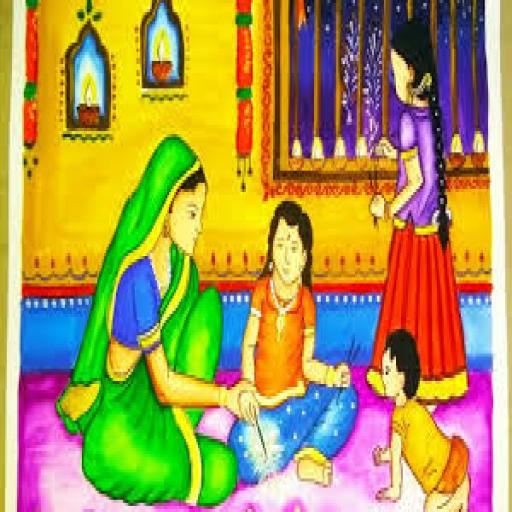person: (55, 125, 251, 508), (364, 14, 470, 408), (225, 194, 360, 490), (363, 325, 472, 509)
